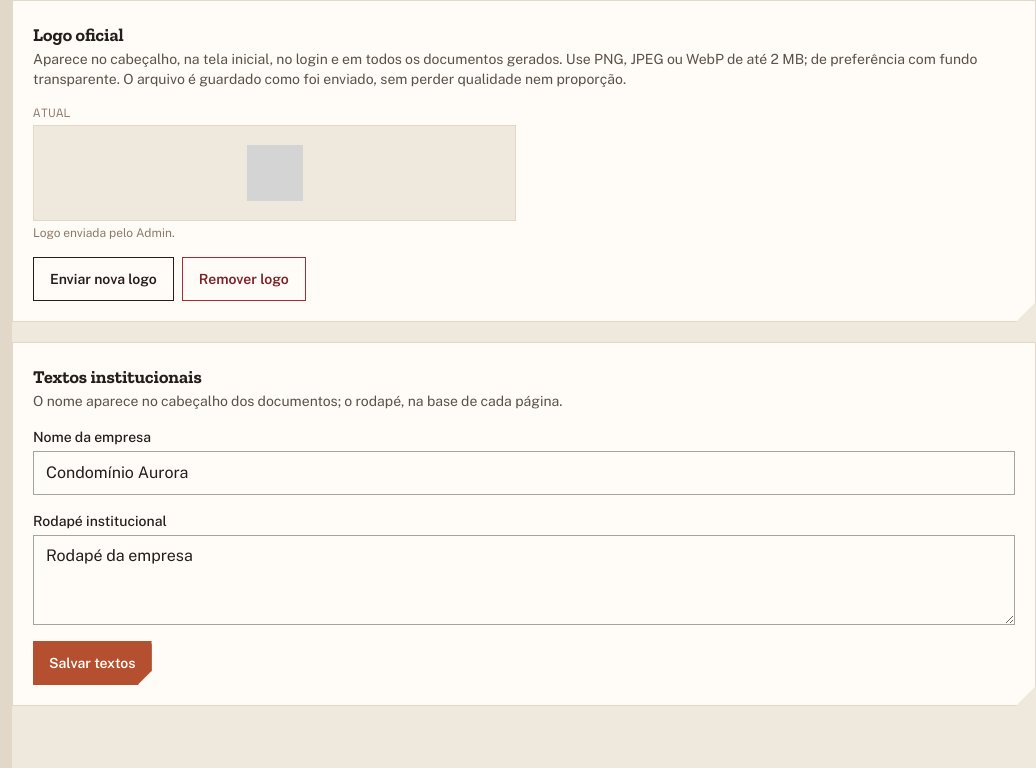
Test: AbaIdentidade — textos institucionais › mostra o erro de validação do servidor
Click the button "Salvar textos" at (92, 663), box [33,641,152,685]
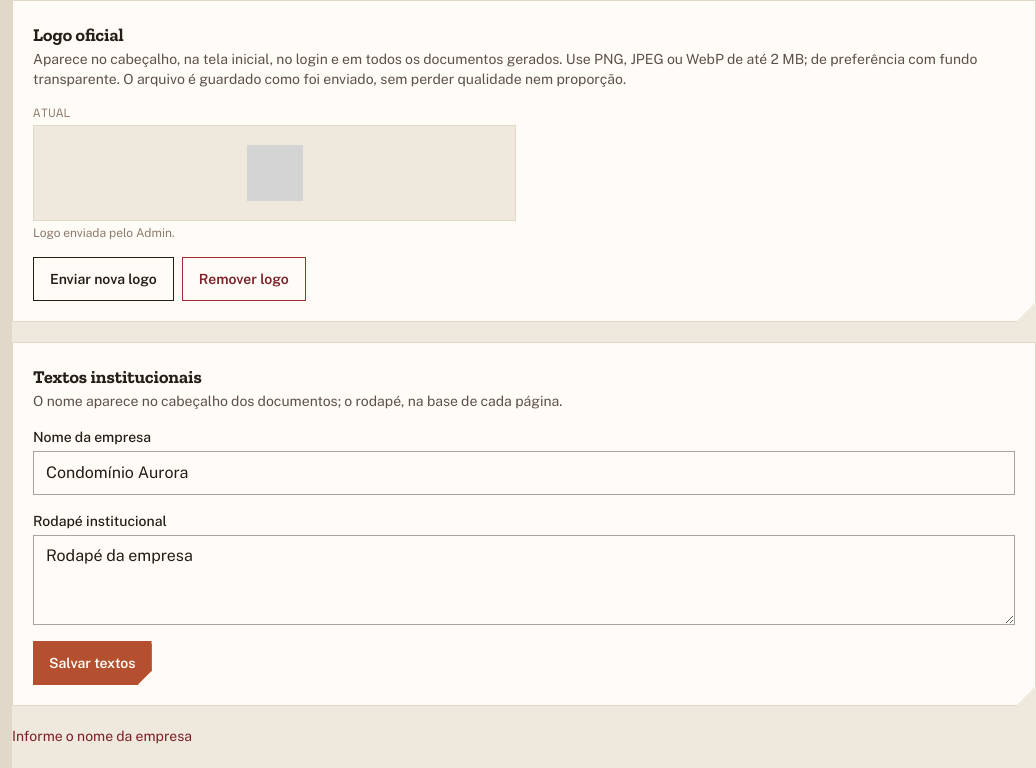
Result: the message reads "Informe o nome da empresa" at [12,728,192,744]
